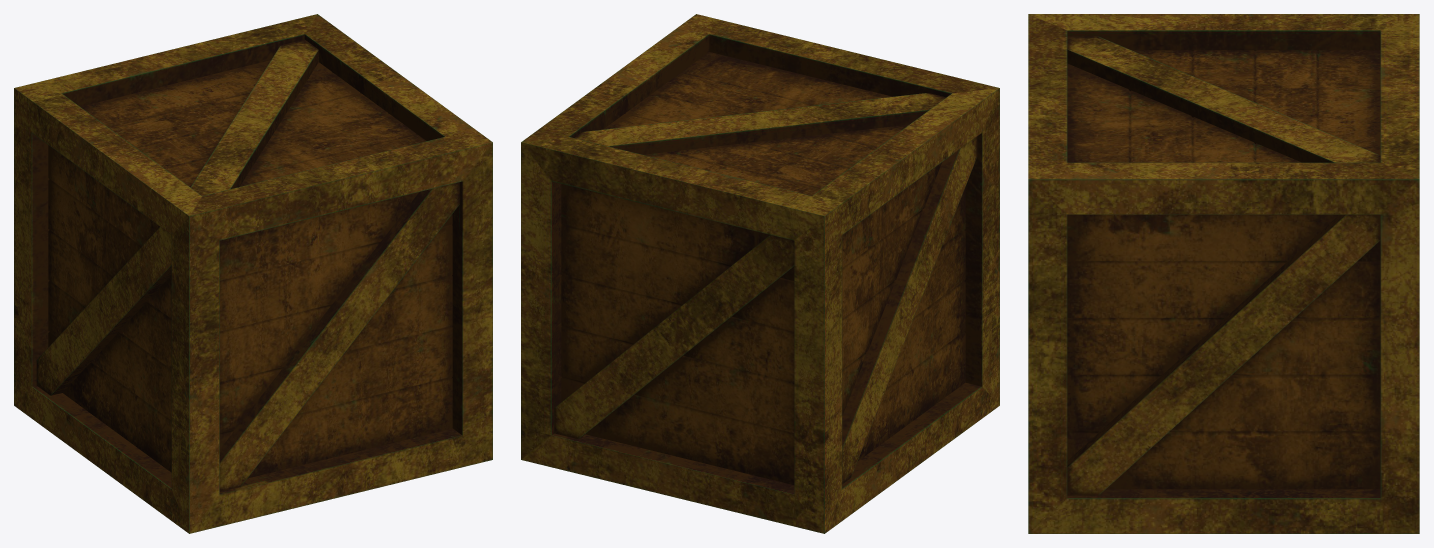
Rendered from Wooden_Box.fbx.
3 views of the same model, side by side, from view 1: azimuth 30°, elevation 25°; view 2: azimuth 150°, elevation 25°; view 3: azimuth 270°, elevation 25° (orthographic). The views are drawn at different scales.
Visible parts, largest first — view 1: pCube2; view 2: pCube2; view 3: pCube2.
Boxes of the visible parts, box(x1,y1,x2,y2) form: pCube2: box(14, 14, 492, 533); pCube2: box(521, 14, 999, 533); pCube2: box(1028, 14, 1419, 533).
Bounding box in the file's own units: 1.8 × 1.8 × 1.8.
Materials: 1 (1 with a texture image).
